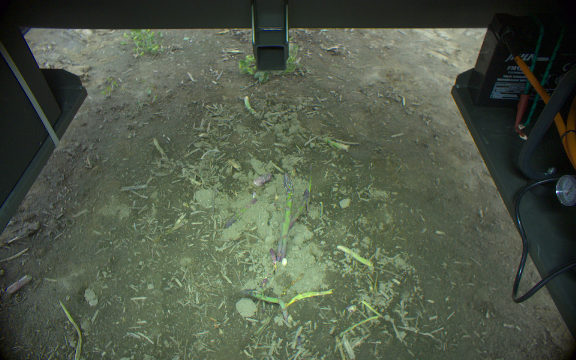aspa: (240, 287, 288, 321), (58, 297, 81, 360), (221, 197, 258, 230), (279, 169, 292, 260), (287, 187, 309, 232), (287, 287, 334, 307), (336, 244, 374, 267), (339, 316, 379, 337), (360, 299, 385, 320), (321, 135, 349, 153), (243, 94, 258, 117), (267, 247, 276, 268)
